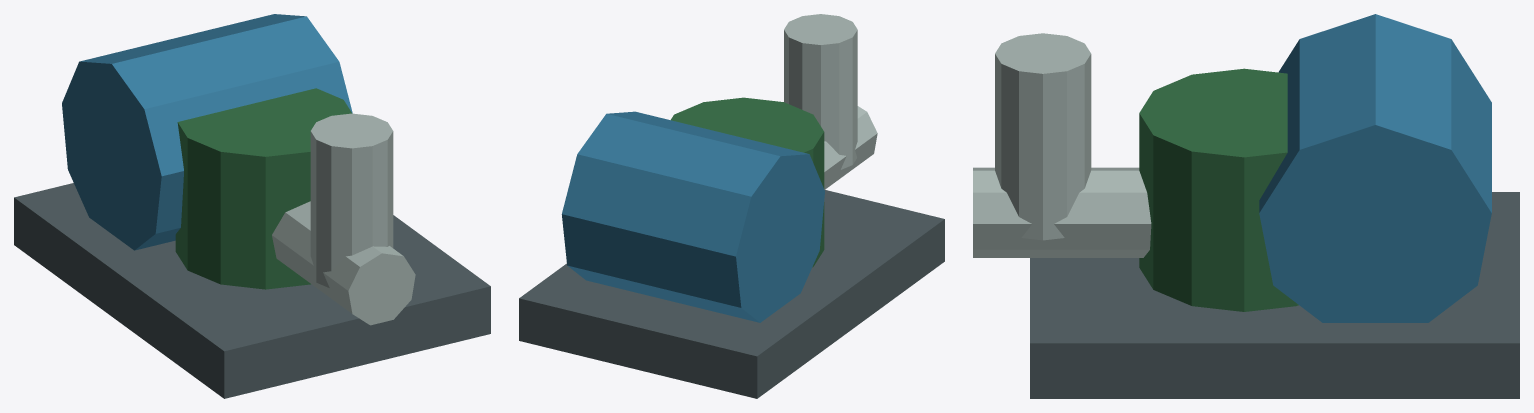
The model's file is 075_irrigation_pump.glb.
3 renders of one model, left to right at view 1: azimuth 30°, elevation 25°; view 2: azimuth 150°, elevation 25°; view 3: azimuth 270°, elevation 25°, orthographic. The views are drawn at different scales.
Parts seen in each view (by area): view 1: Irrigation pump; view 2: Irrigation pump; view 3: Irrigation pump.
Part boxes in pixels (x1,y1,x2,y2): Irrigation pump: (14,14,490,398); Irrigation pump: (519,14,944,398); Irrigation pump: (973,14,1519,398).
Bounding box in the file's own units: 0.82 × 0.68 × 1.25.
